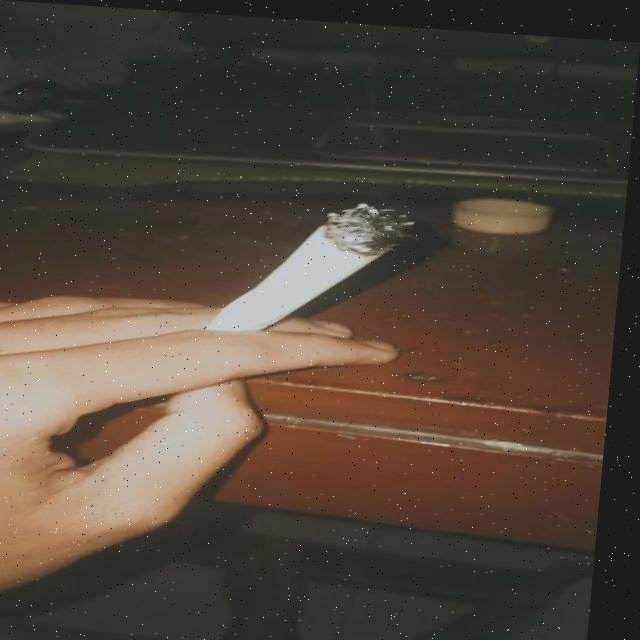cigarette: (214, 191, 413, 339)
